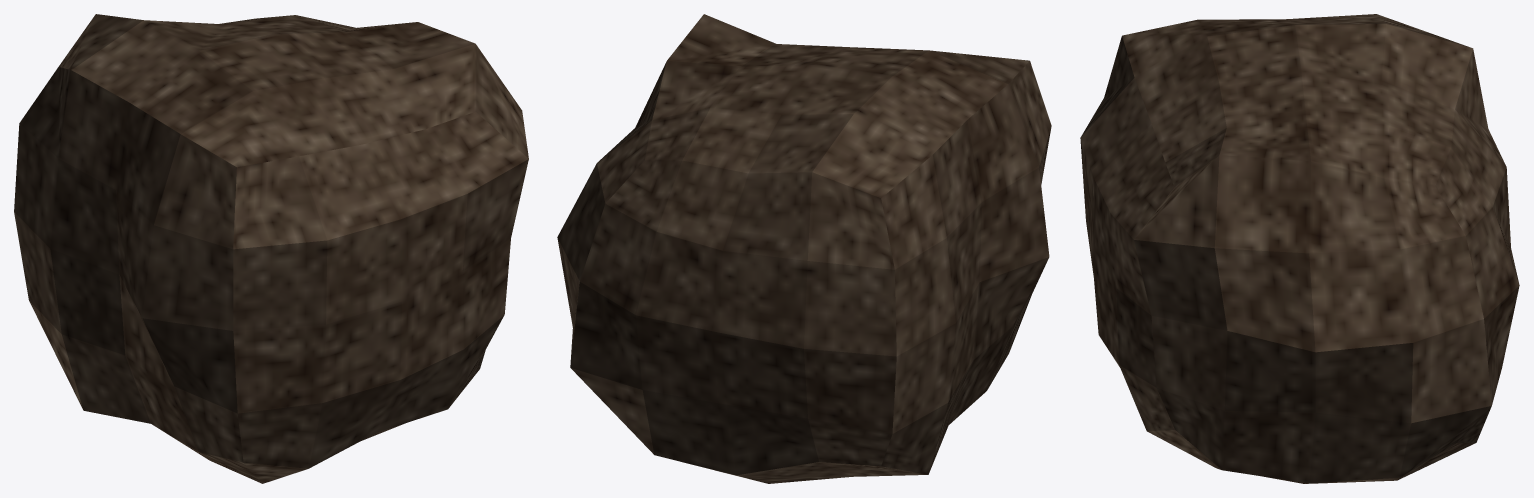
The model's file is SM_EC_Rock_54.fbx.
The picture shows the model from 3 angles, left to right: view 1: azimuth 30°, elevation 25°; view 2: azimuth 150°, elevation 25°; view 3: azimuth 270°, elevation 25°; orthographic projection. The views are drawn at different scales.
Visible parts, largest first — view 1: SM_EC_Rock_54; view 2: SM_EC_Rock_54; view 3: SM_EC_Rock_54.
Boxes of the visible parts, x1,y1,x2,y2 form: SM_EC_Rock_54: (14,14,528,483); SM_EC_Rock_54: (557,14,1051,483); SM_EC_Rock_54: (1080,14,1519,483).
Bounding box in the file's own units: 0.7684 × 0.7234 × 0.7211.
